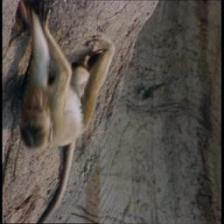monkey: (15, 77, 63, 152)
